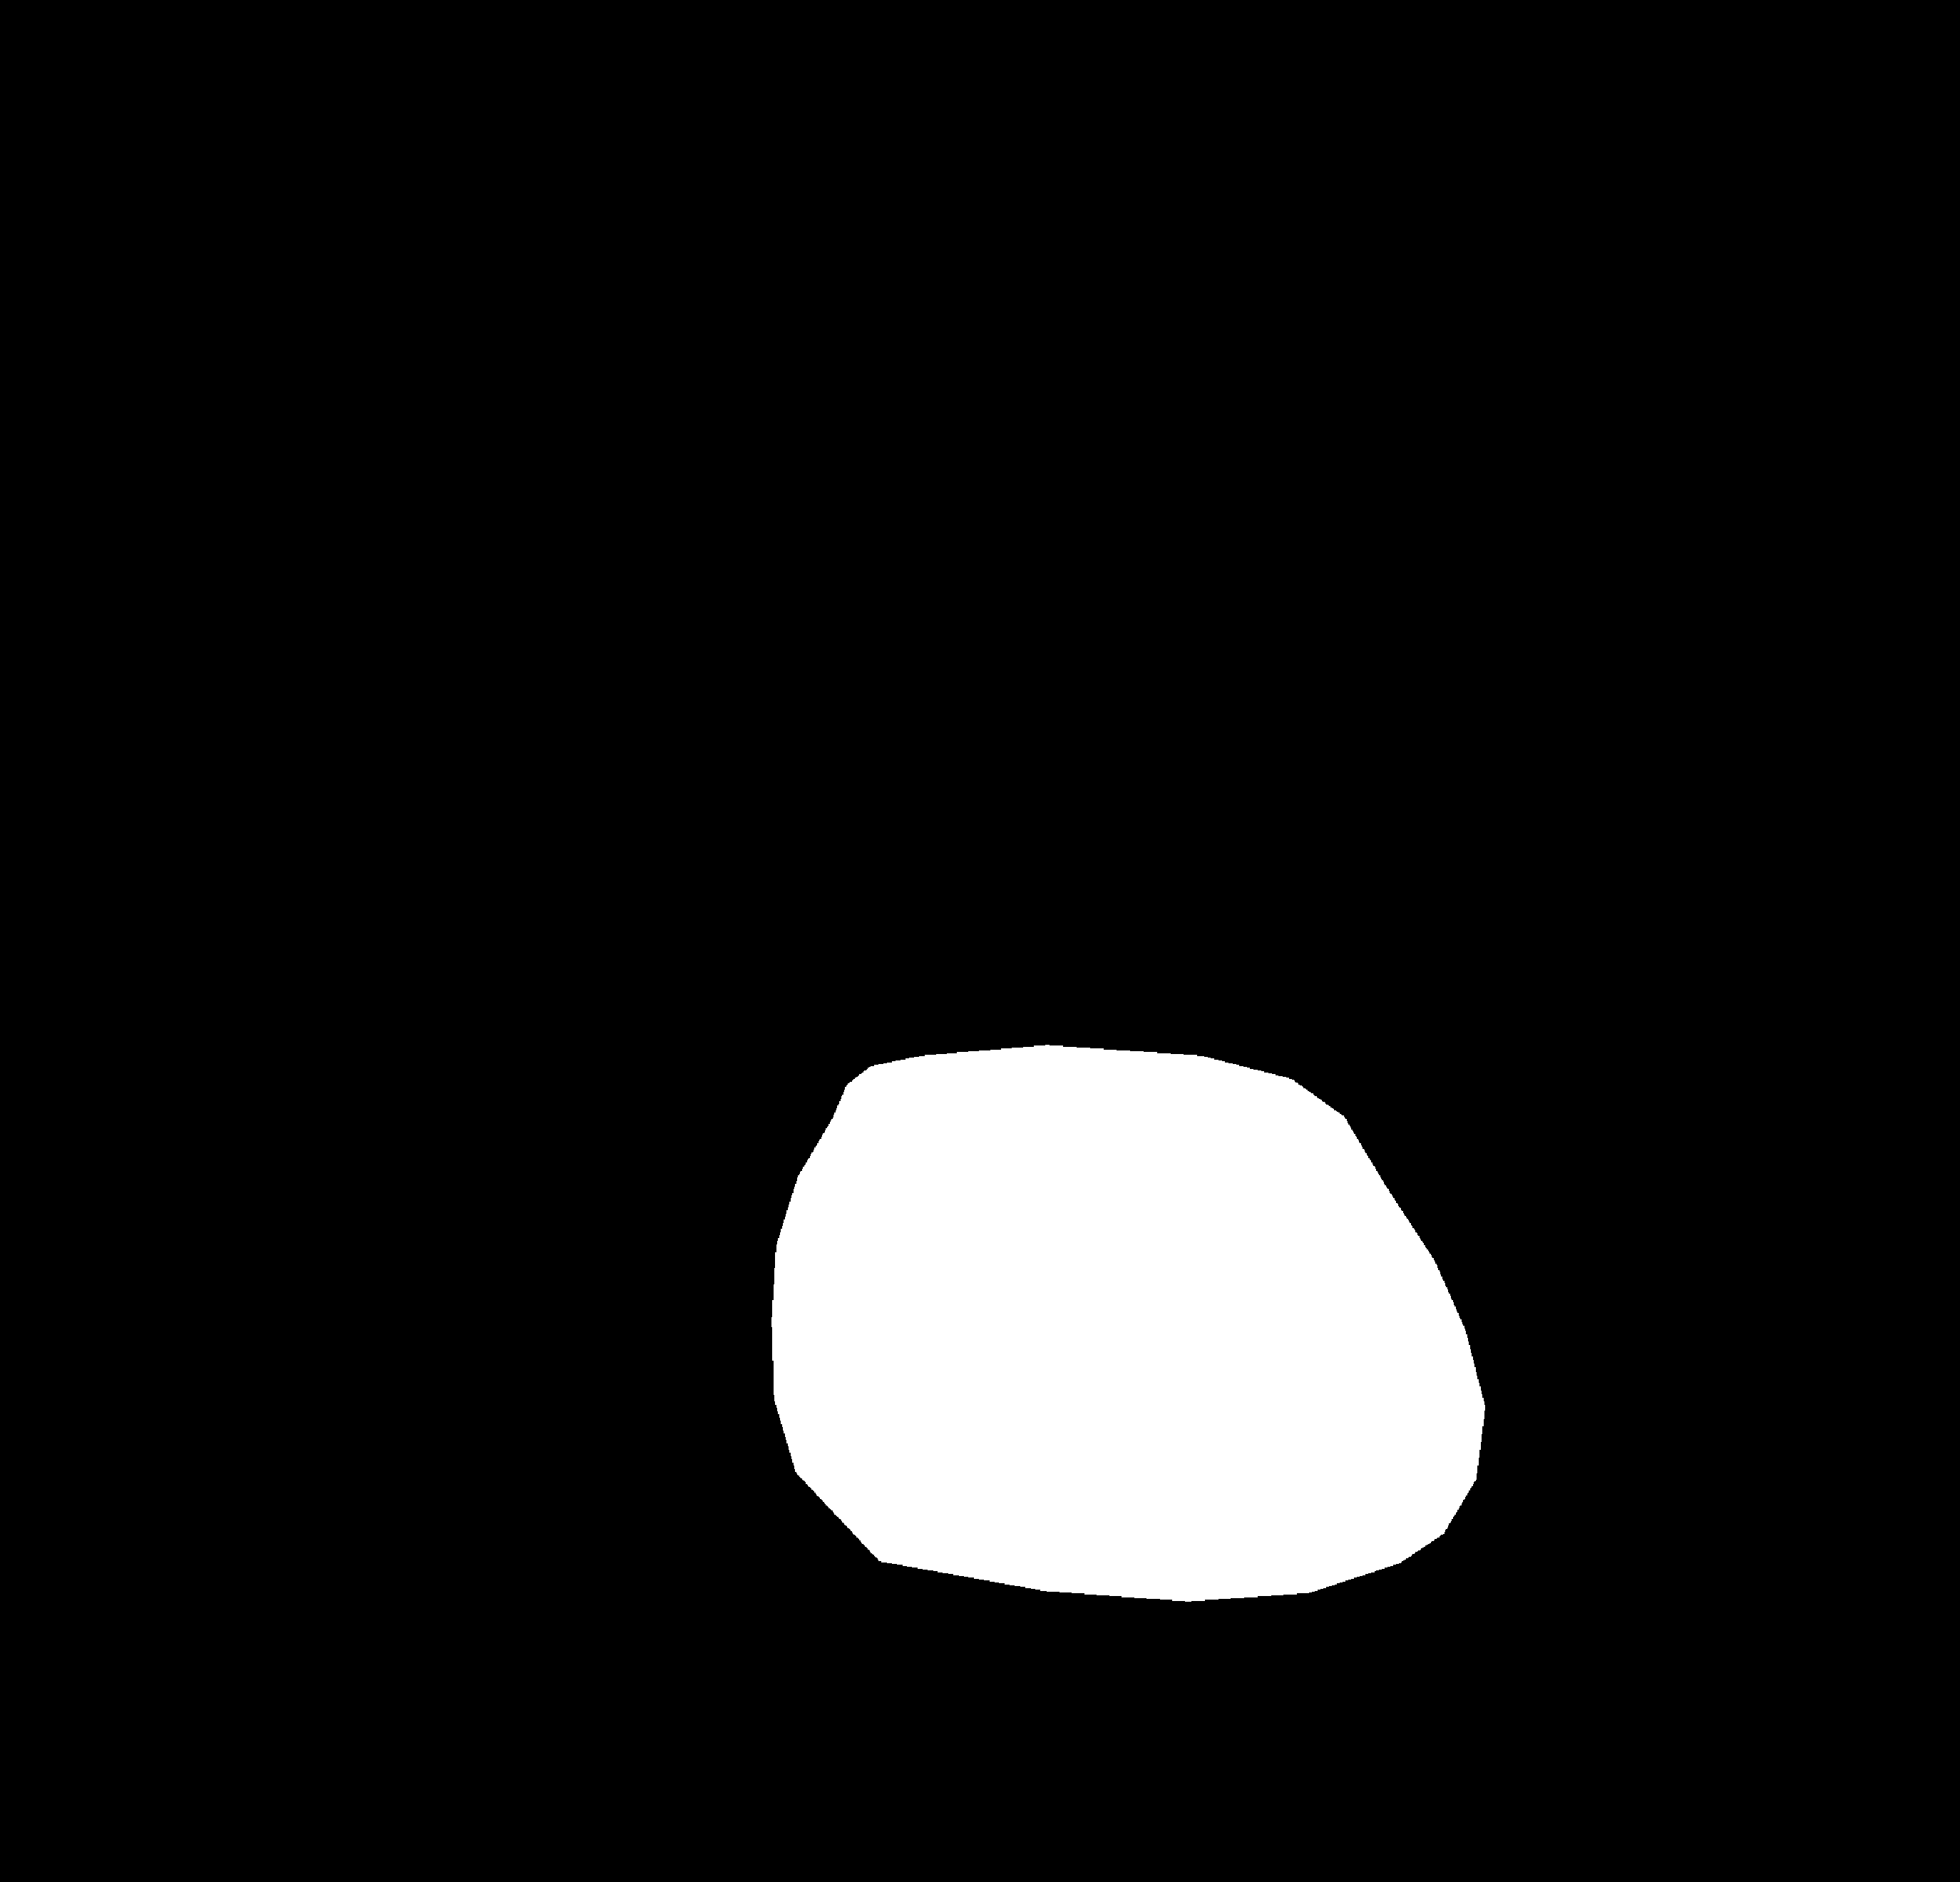heart: (767, 1108, 1491, 1612)
left_lung: (177, 191, 917, 1703)
right_lung: (1059, 166, 1775, 1675)
